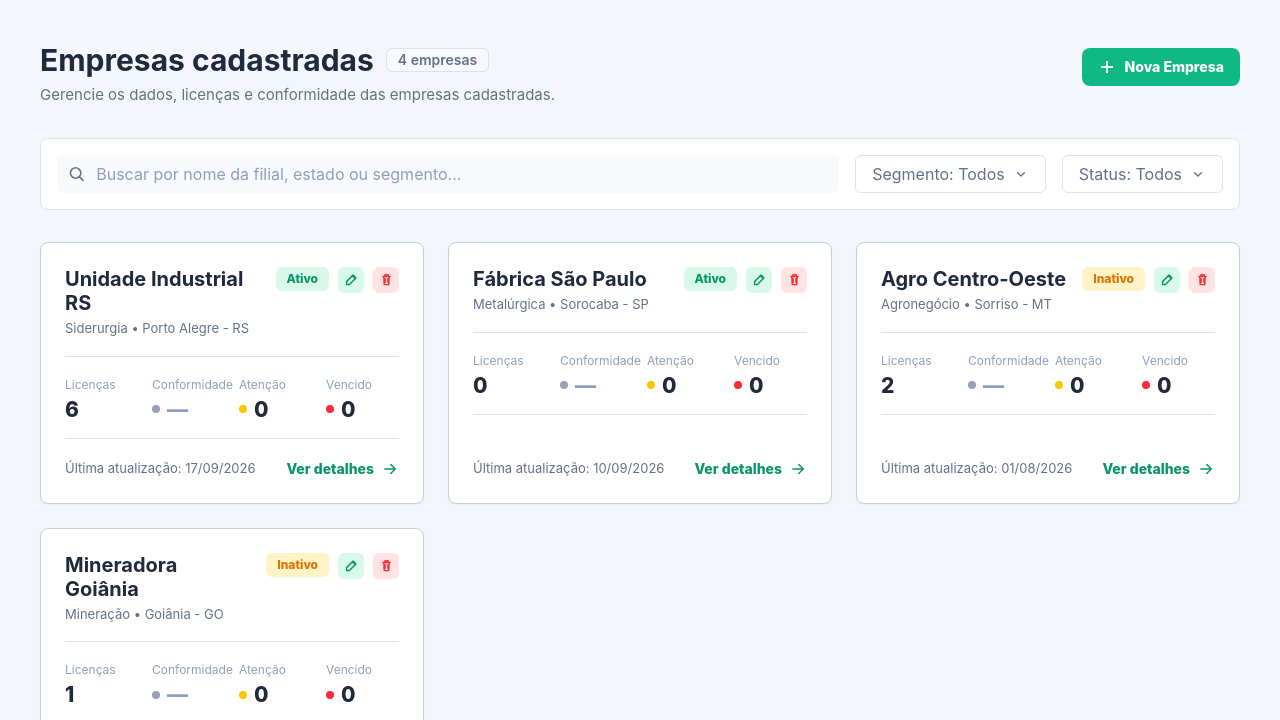
Test: AdminCompaniesPage filters › offers the segments present in the listing, sorted, plus "Todos"
Expected: the element "Unidade Industrial RS" is shown, [40,242,424,504]
Step 1. Click the button "Segmento: Todos" → click(950, 174), box [855,155,1046,193]
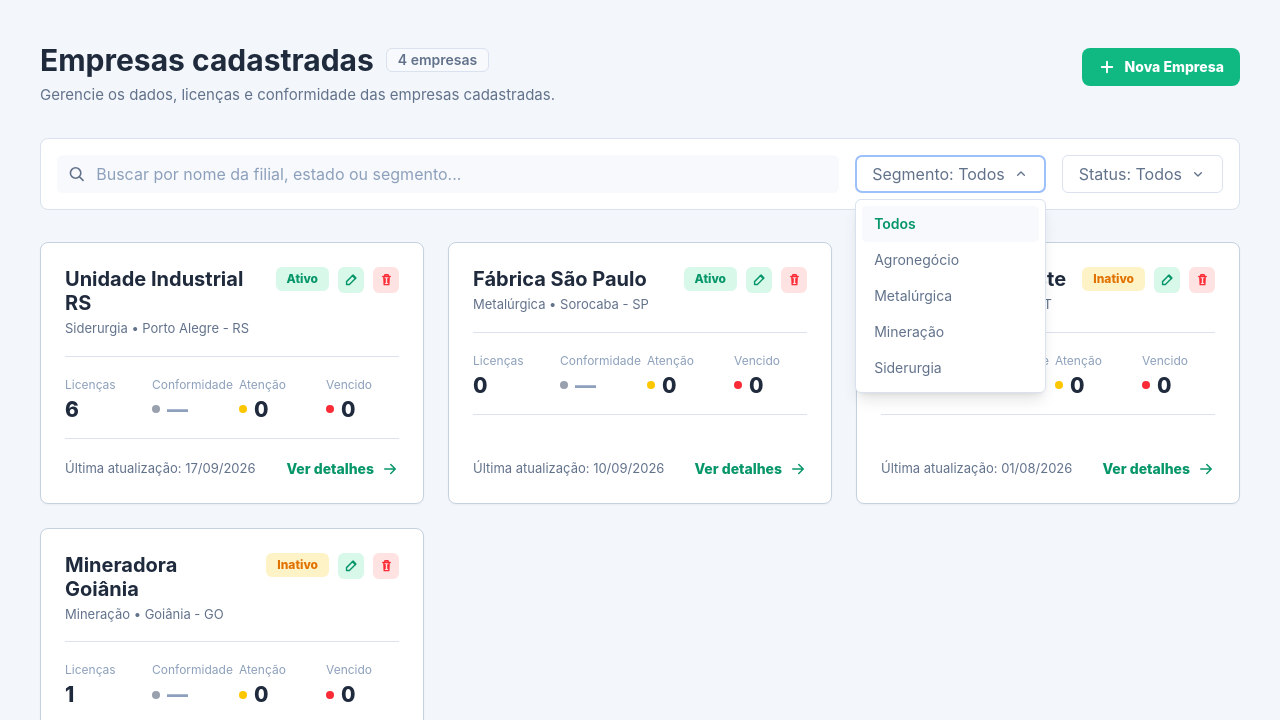
Now the options read "Todos", "Agronegócio", "Metalúrgica", "Mineração", "Siderurgia", in this order, box [862,206,1039,242]; [862,242,1039,278]; [862,278,1039,314]; [862,314,1039,350]; [862,350,1039,386]
